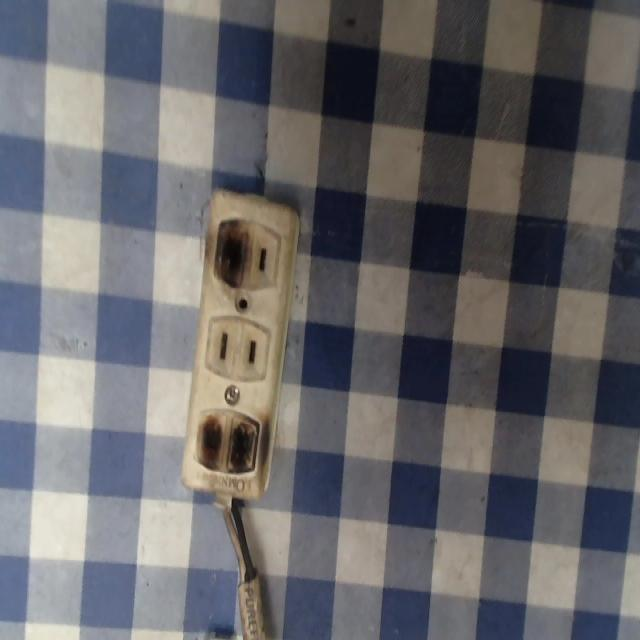-: (193, 407, 276, 489), (212, 205, 257, 292)
